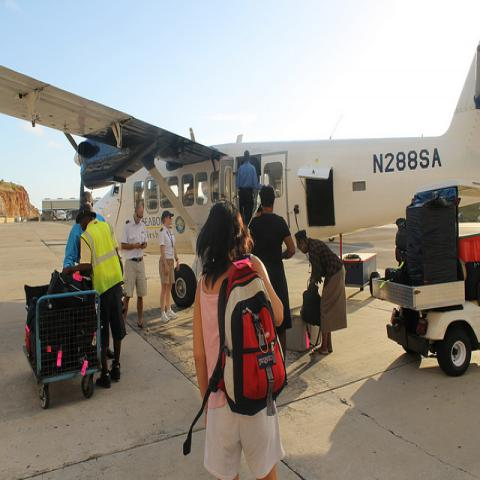truck: (373, 184, 479, 376)
